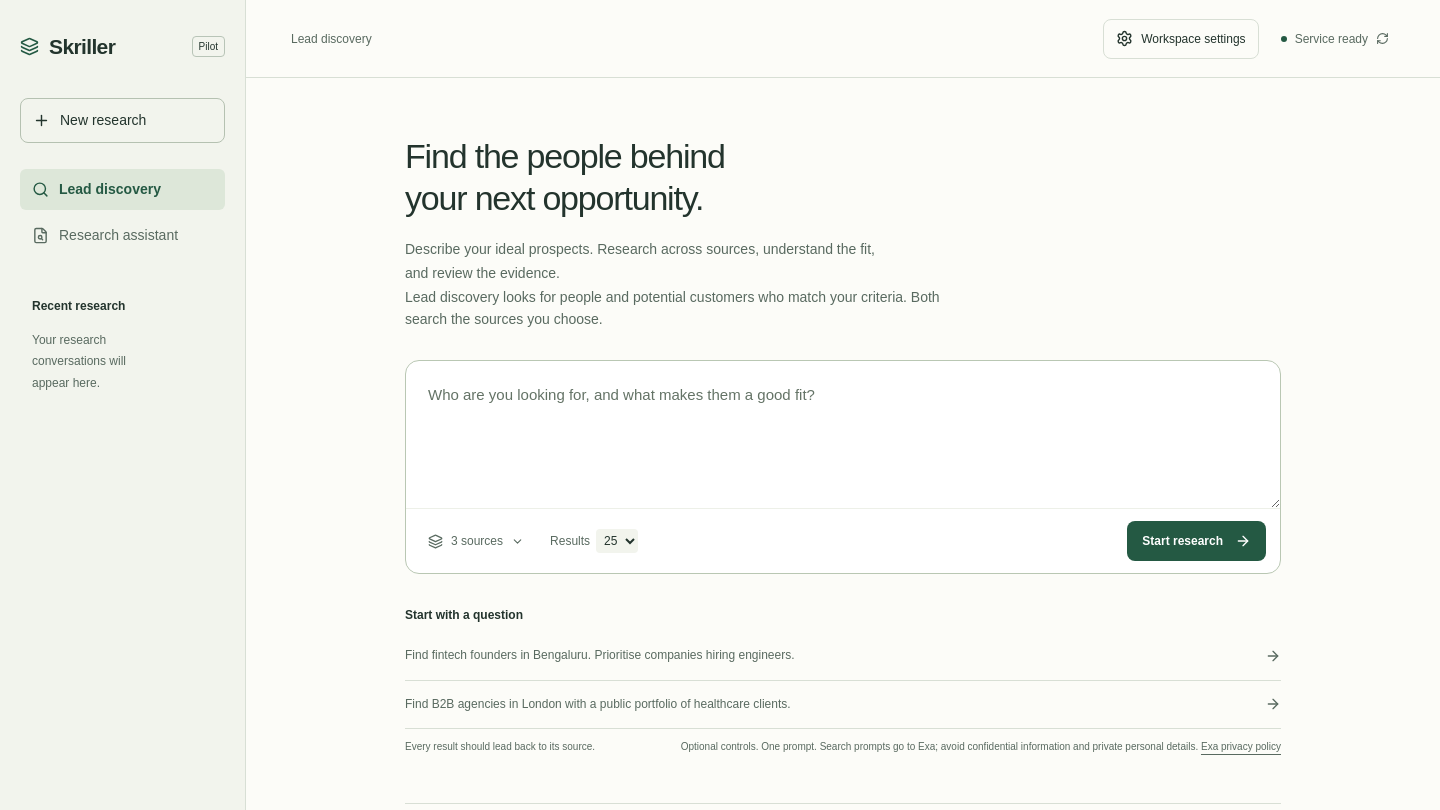
Scenario: research workbench › prevents empty prompt and changes research mode
This screenshot has width=1440, height=810.
Click the button "Start research".
click(1197, 541)  # box 1127,521 -> 1266,561
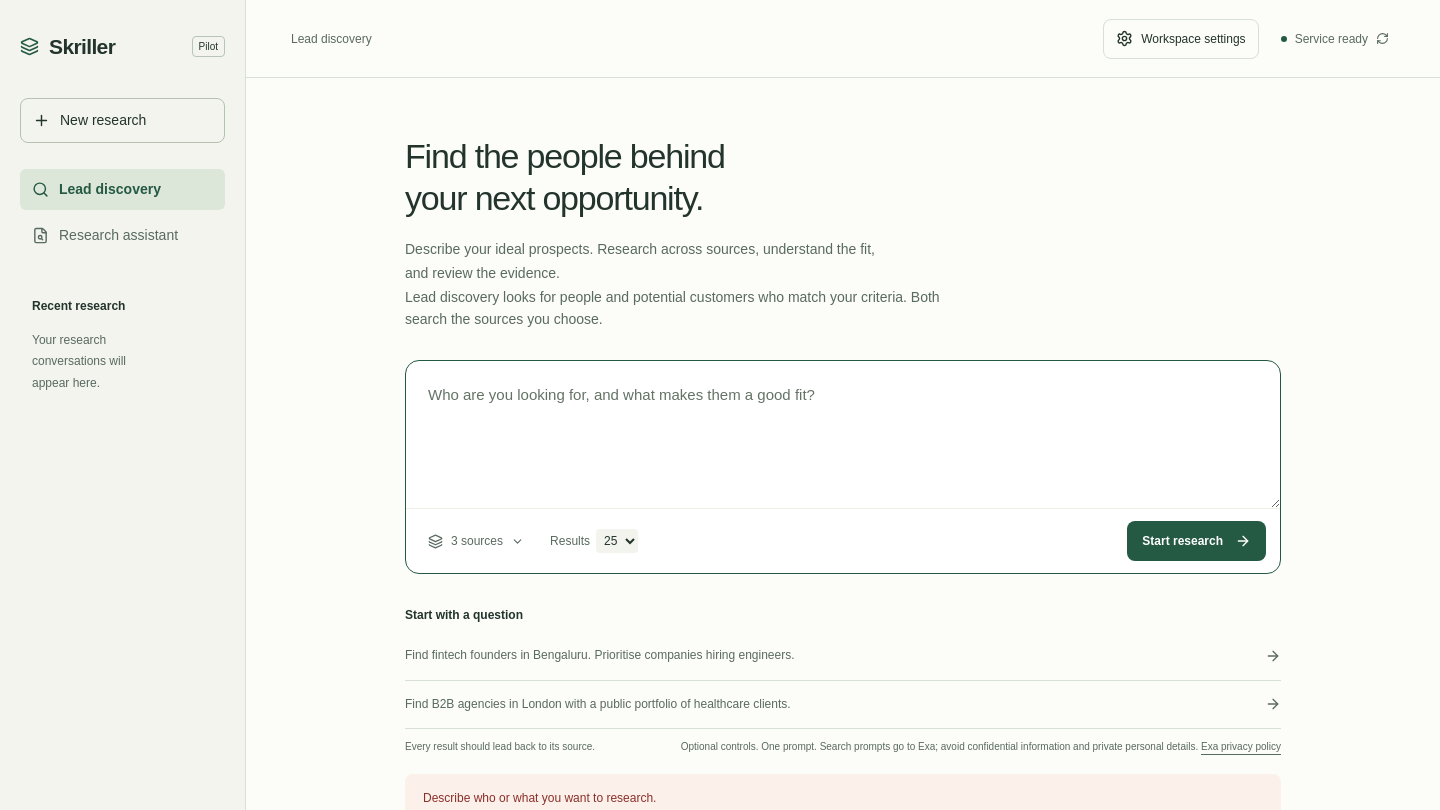
Check: the message shows "Describe who or what", box 423,791 -> 656,805
Click the button "Research assistant".
click(122, 235)  # box 20,214 -> 225,256
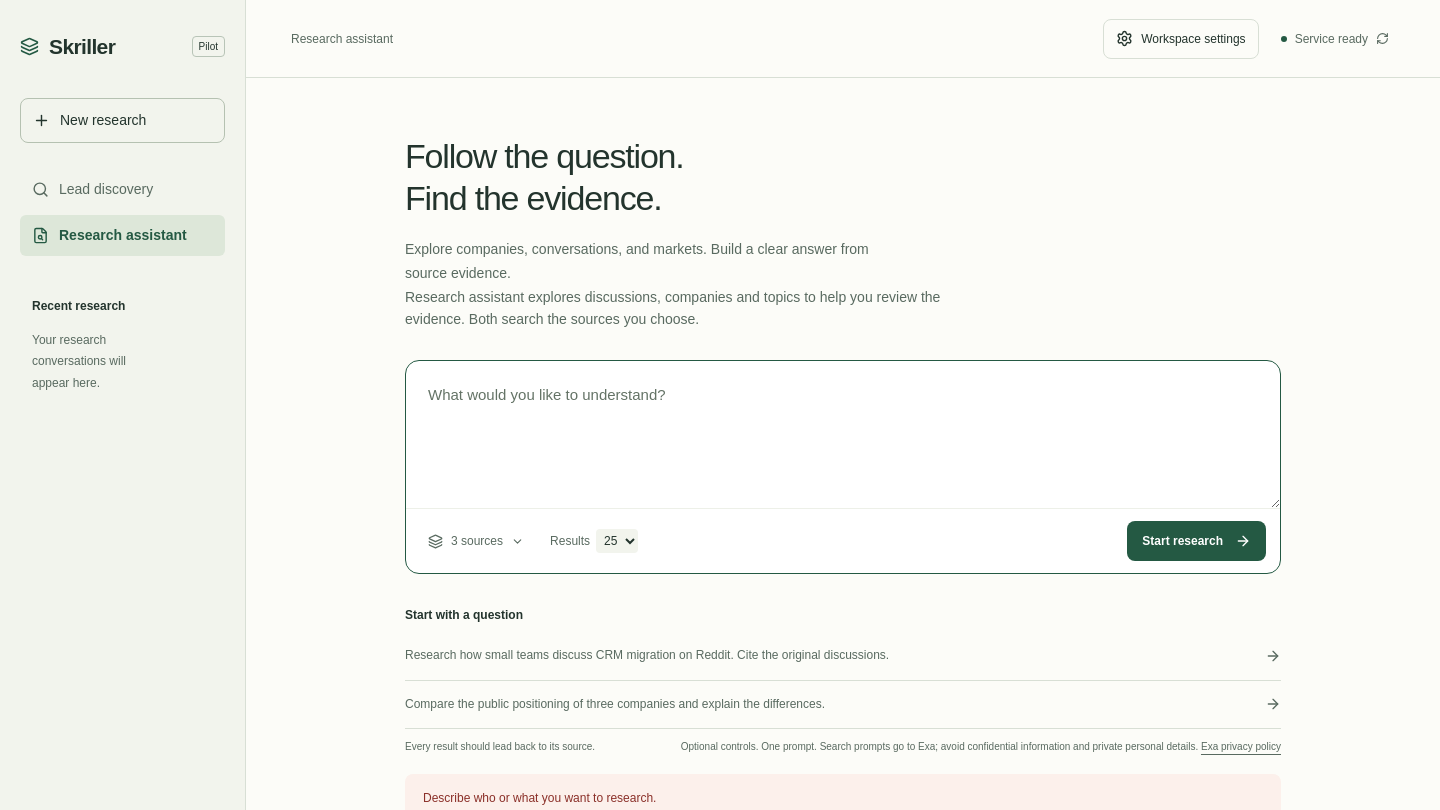
Check: the heading "Follow the question. Find the evidence." is shown, box 405,137 -> 684,217
